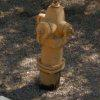Hydrant: (26, 1, 73, 97)
